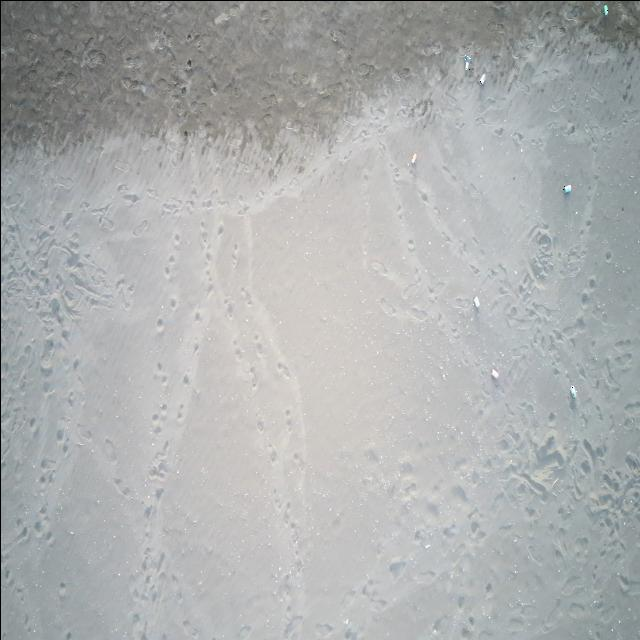Garbage: (464, 54, 471, 70), (568, 384, 575, 399), (409, 152, 415, 164), (563, 183, 571, 192), (473, 296, 479, 308), (491, 367, 497, 379), (479, 72, 484, 83), (602, 4, 607, 15)
